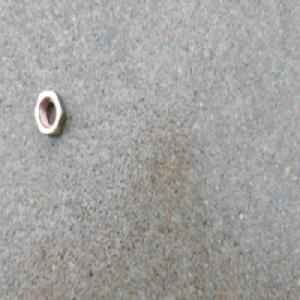Nut: (32, 87, 67, 139)
